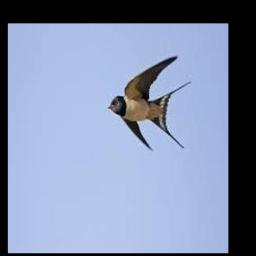Swallow: (108, 55, 192, 150)
